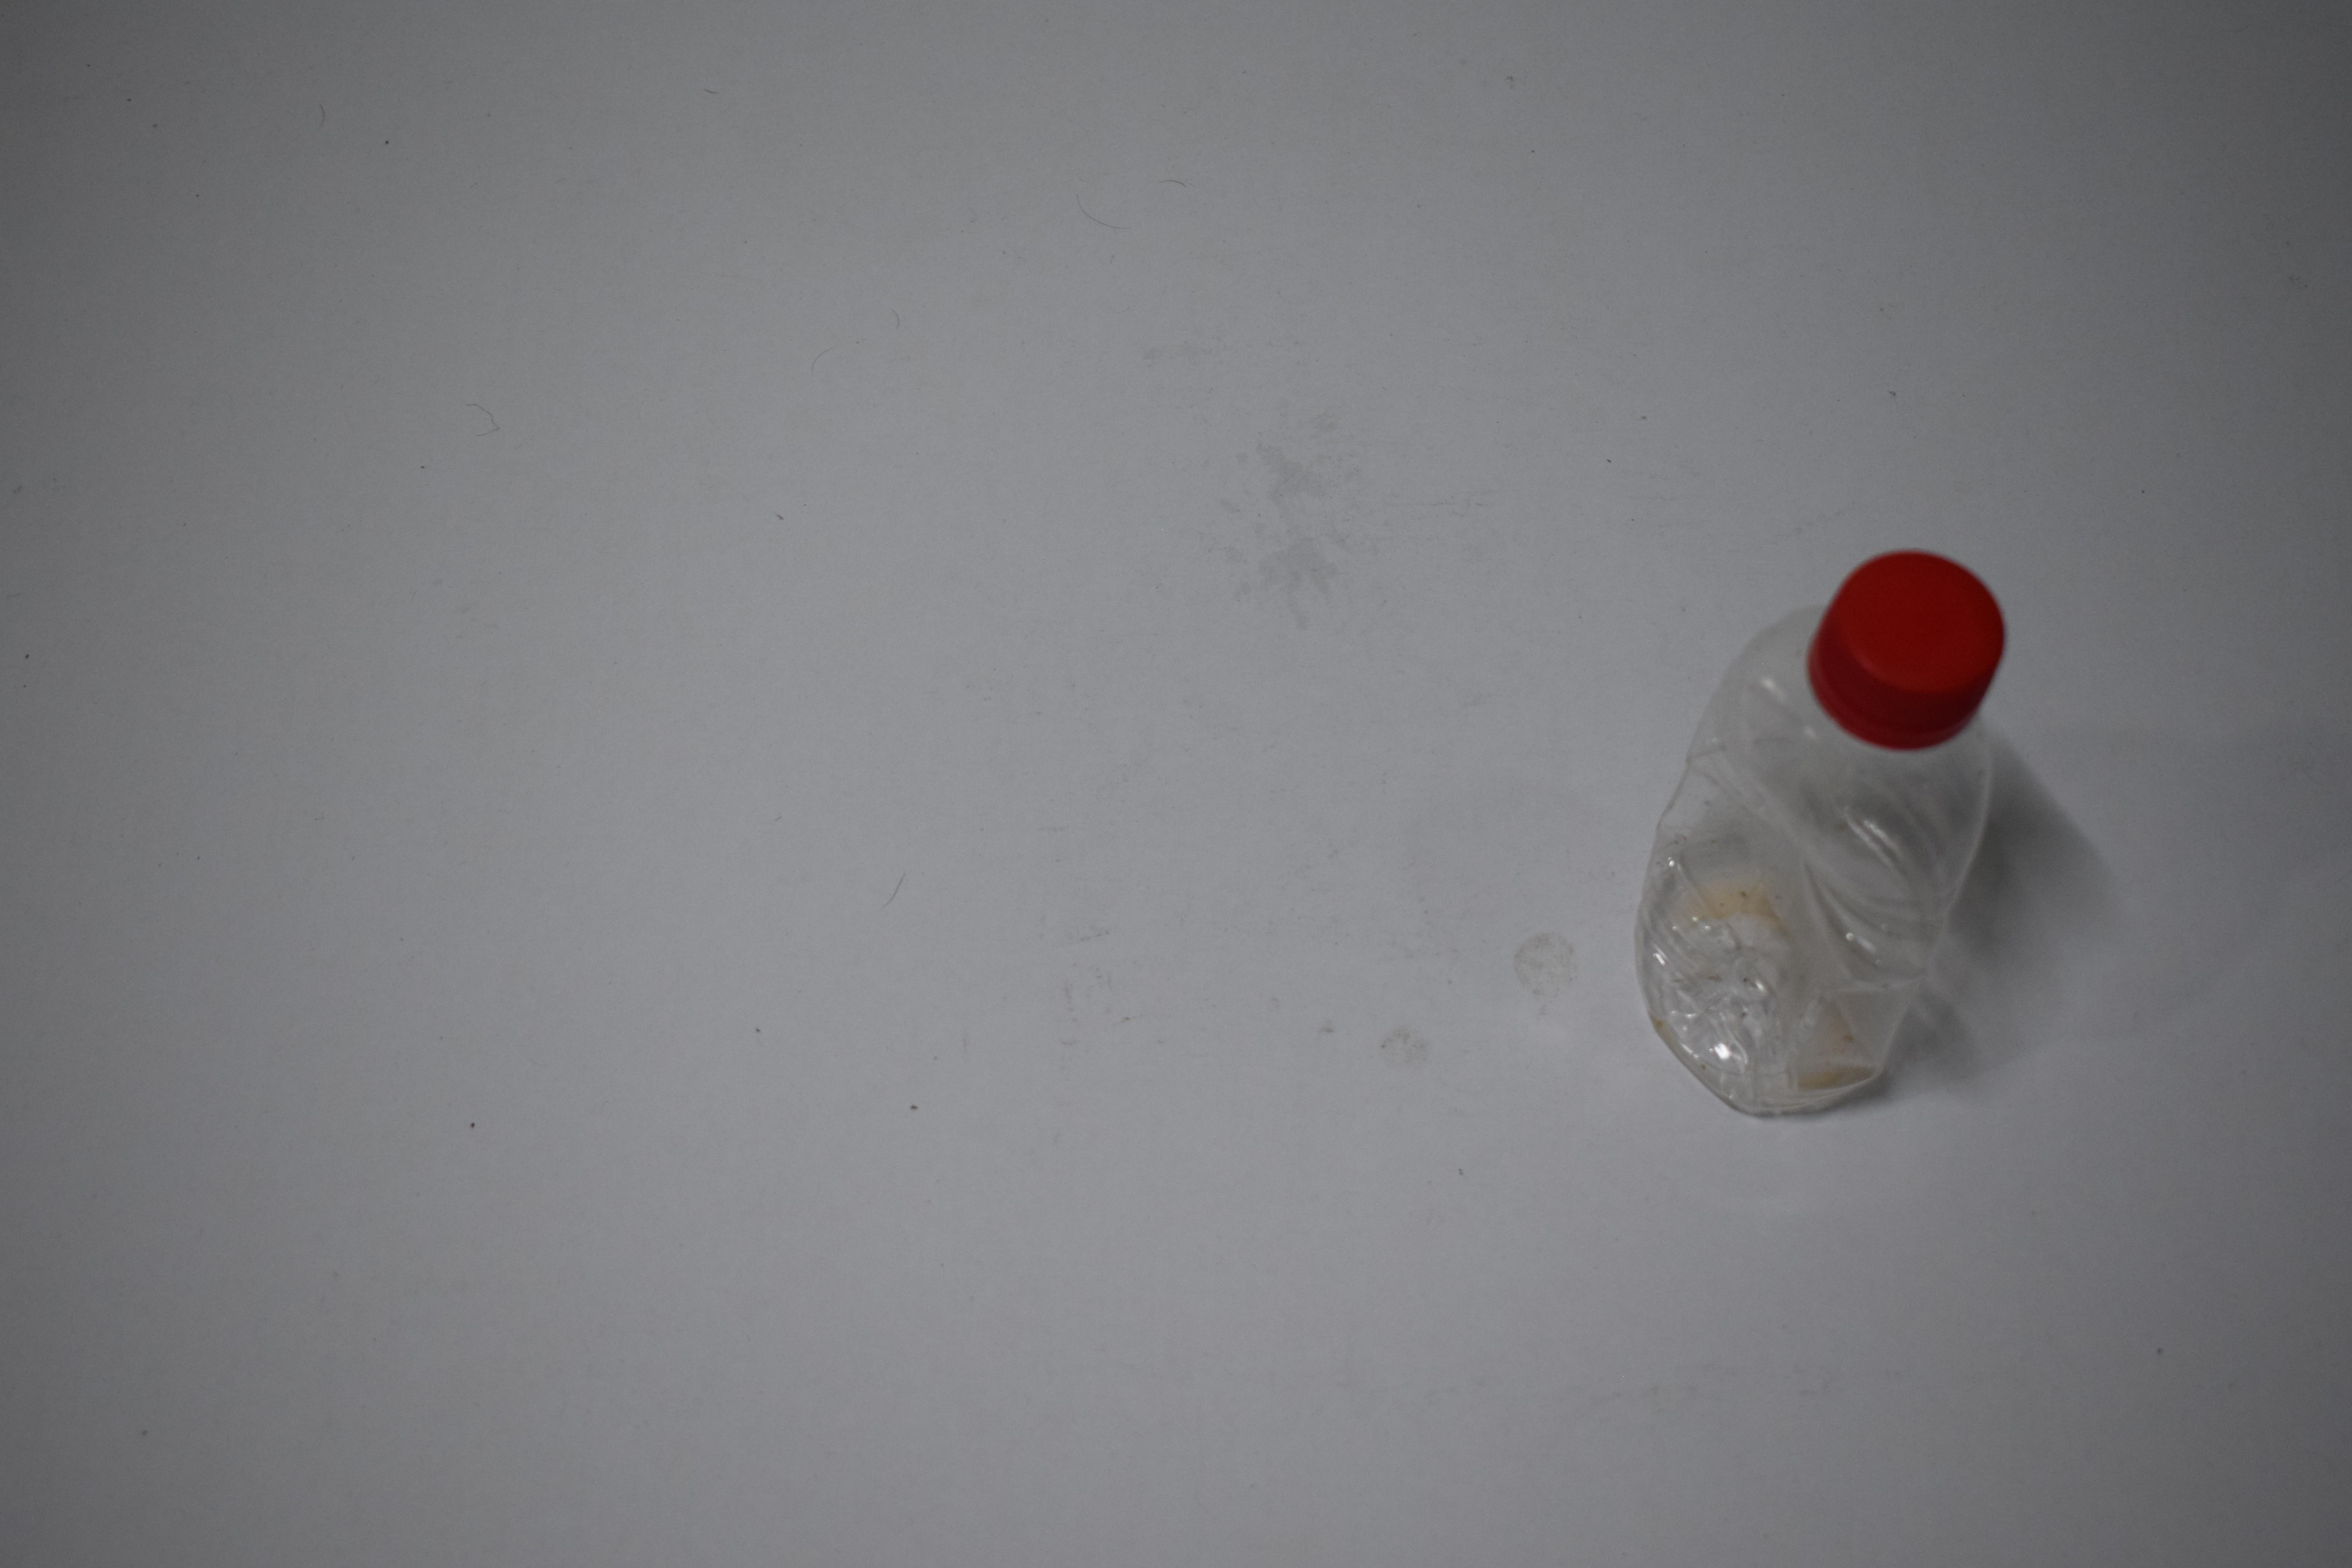bottle: (1619, 0, 2004, 339)
